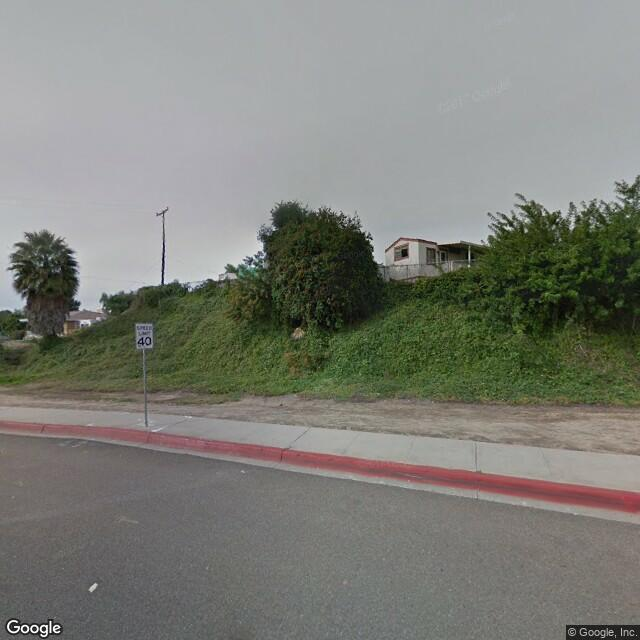litter: (82, 579, 105, 596)
